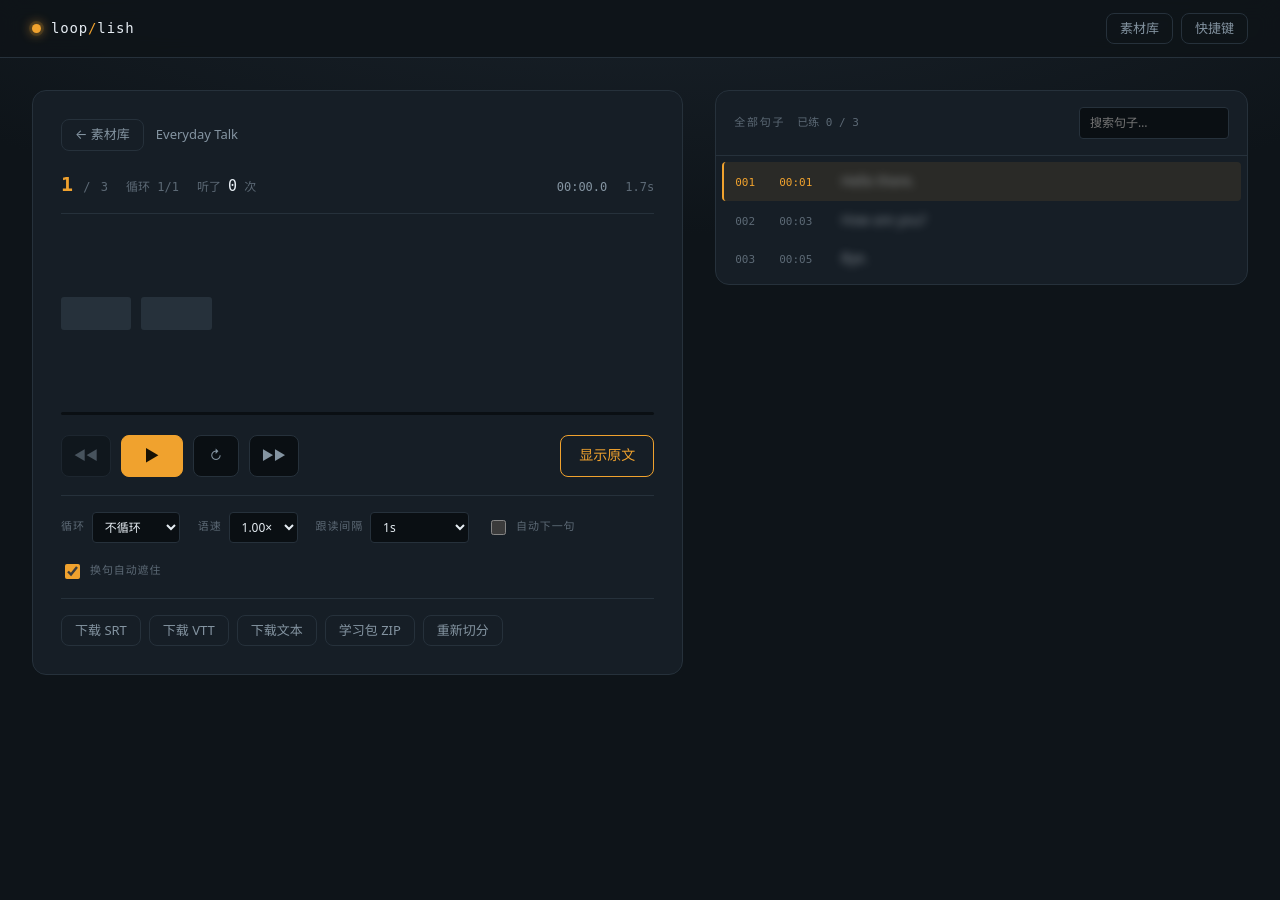
Test: loops, gaps and auto advance › cancels the pending gap when the user selects another sentence
The width and height of the screenshot is (1280, 900).
Check: the heading named "第 1 / 3 句" is shown, box [61,169,108,199]
Select "每句 2 遍" in the dropdown labelled "循环": [136, 527] box [92,512,180,543]
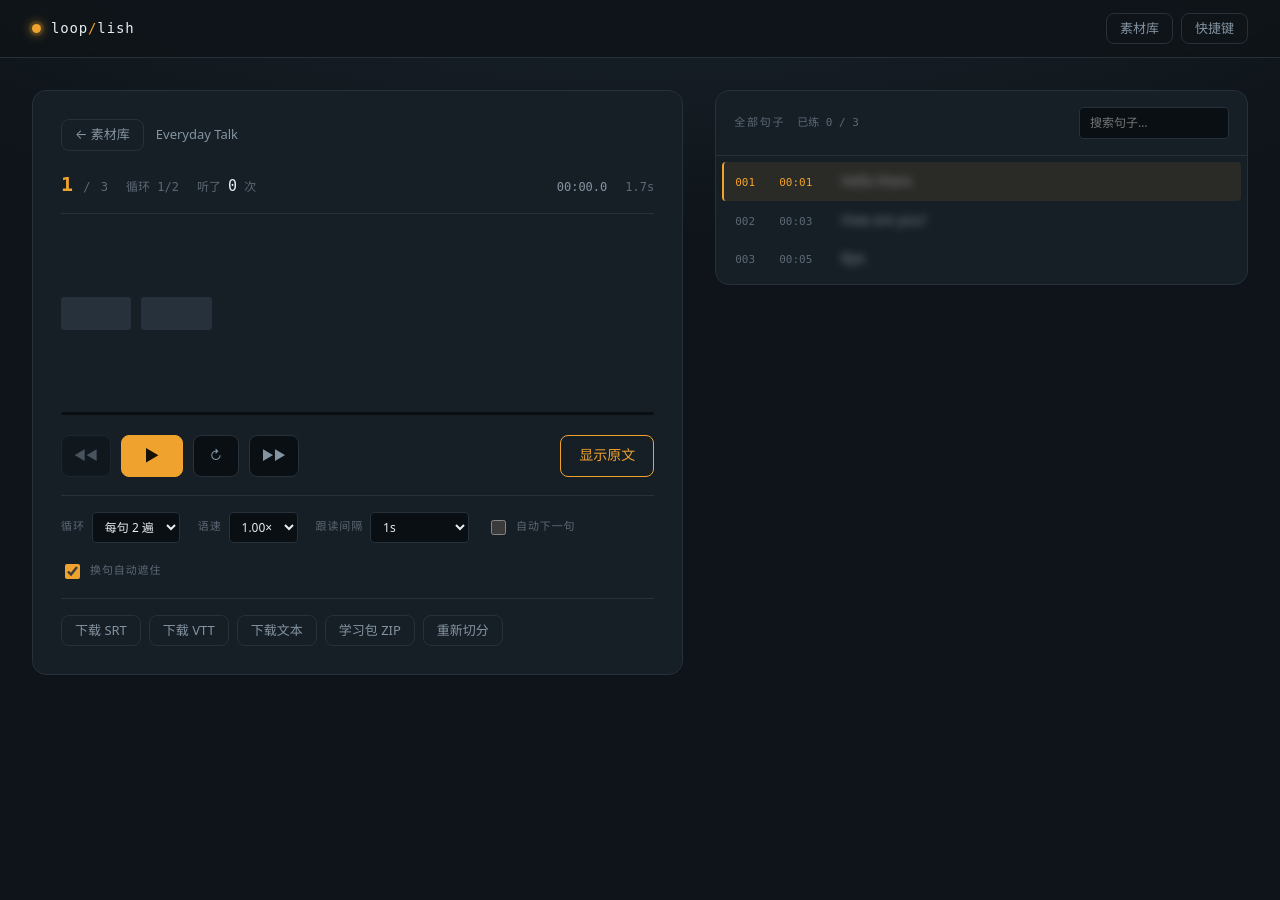
Click the button "▶": [152, 456] box [121,435,183,477]
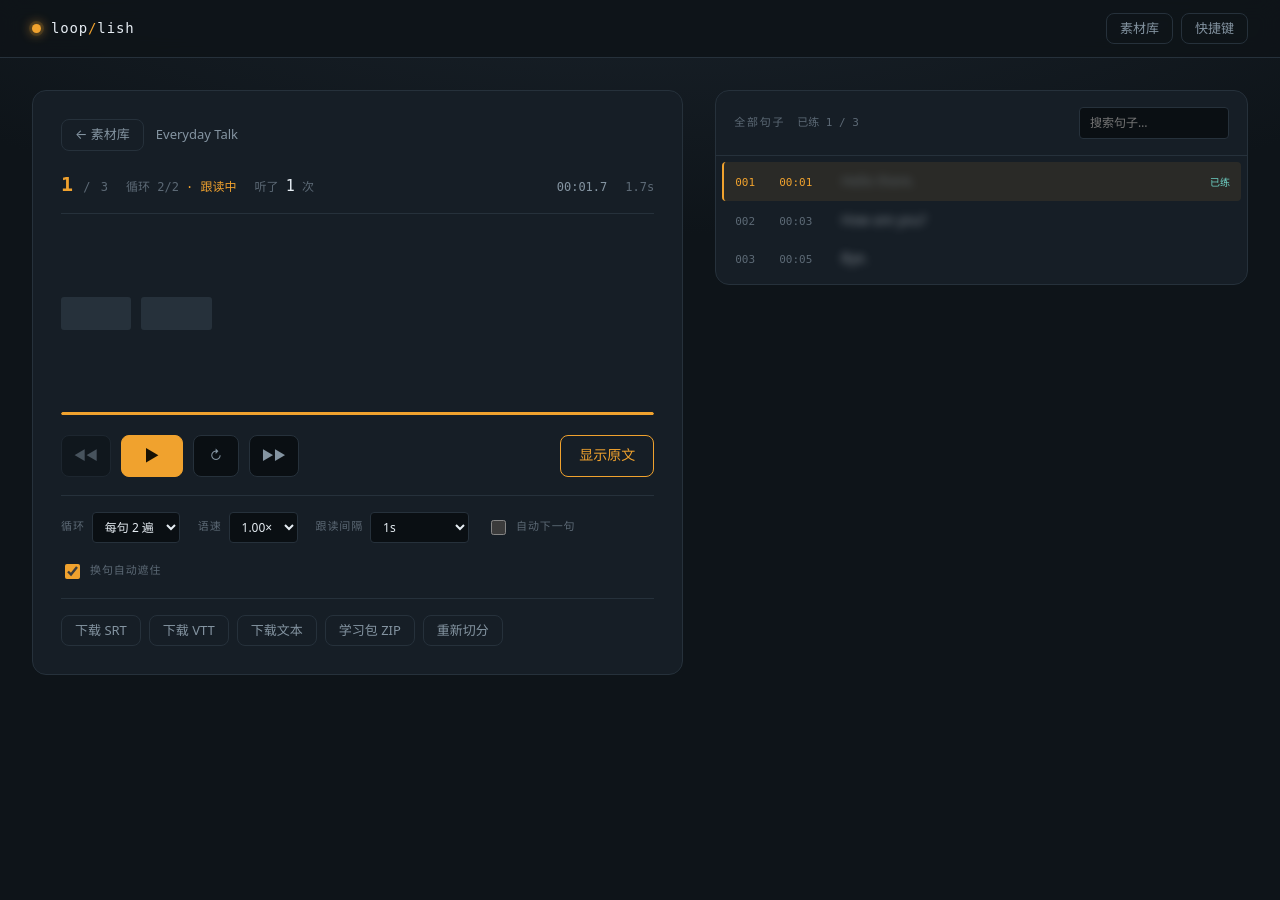
Click the button named "第 2 句": [796, 221] box [722,200,1241,239]
Wait 5000 ms
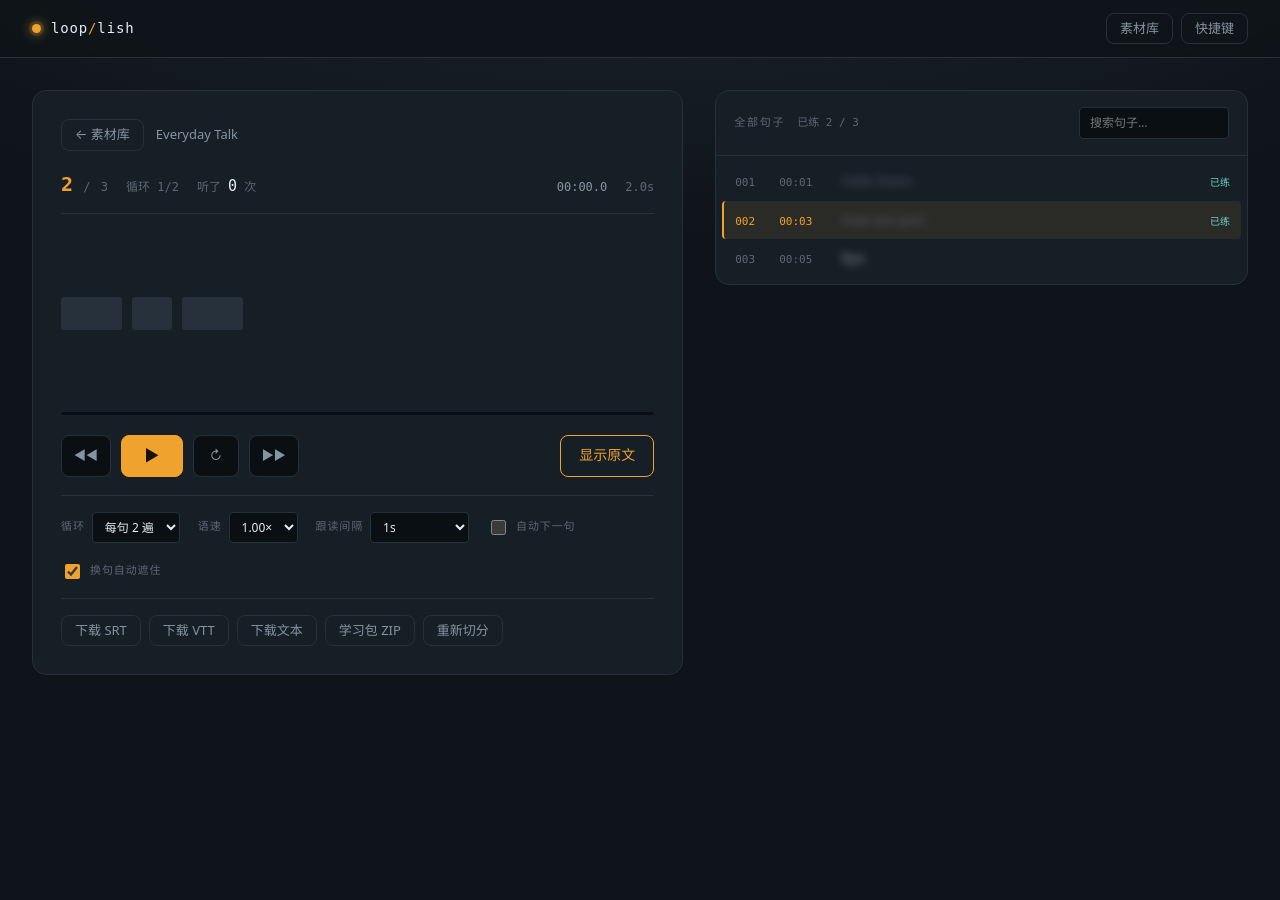
Check: the message "循环 1/2" is shown, box [126,178,179,196]
